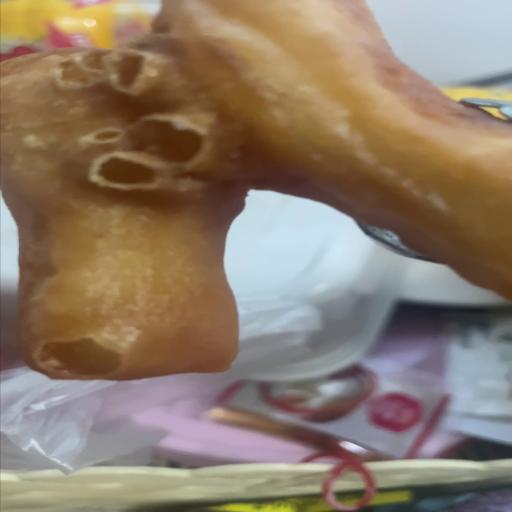street_burnt_defect: (0, 0, 512, 380)
